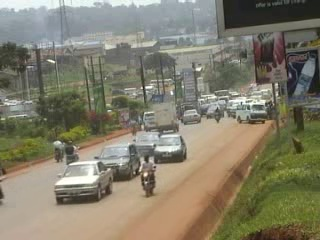Car: (53, 158, 113, 204), (92, 142, 141, 180), (152, 131, 188, 164), (132, 129, 158, 156), (180, 108, 203, 125), (205, 104, 225, 120), (197, 101, 209, 115)
Motorcycle: (137, 153, 160, 197), (63, 138, 81, 166), (52, 135, 65, 163), (213, 105, 221, 123)
